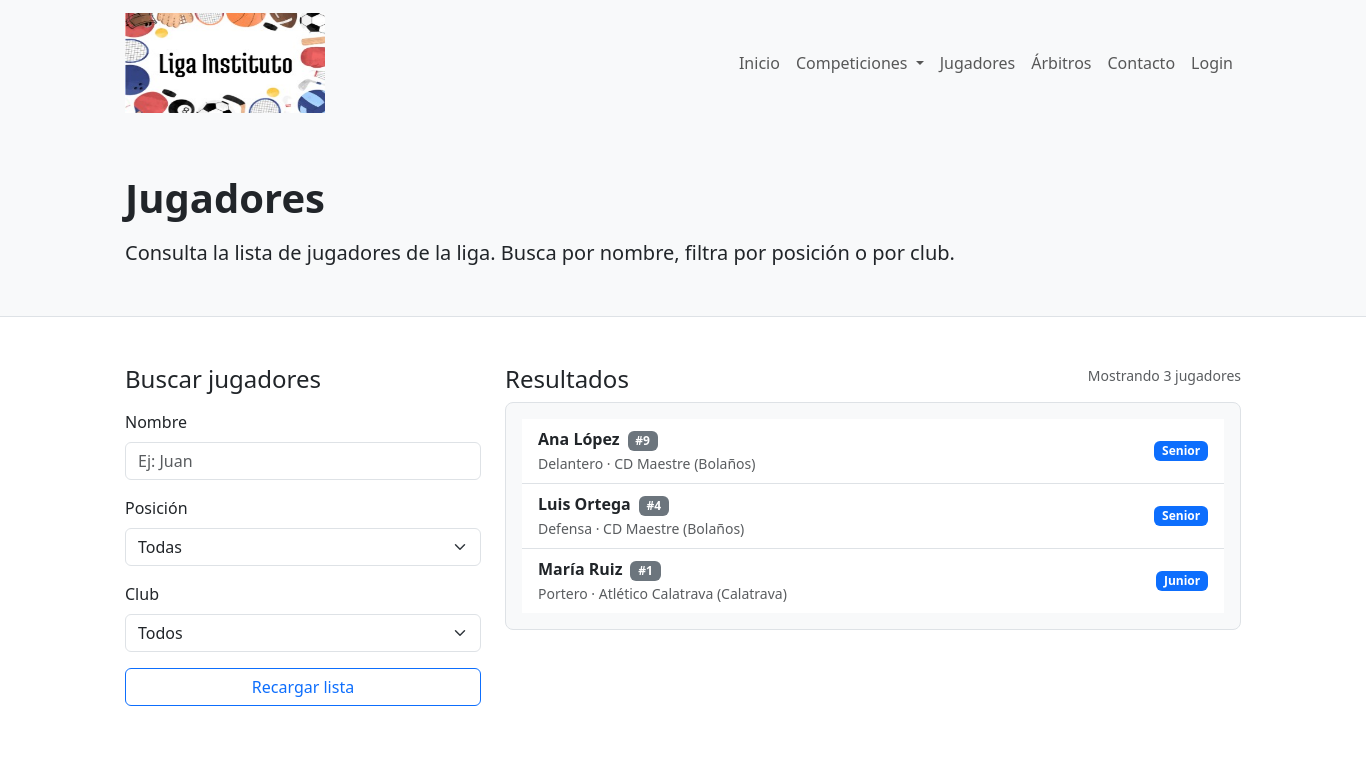
Test: Página de Jugadores › debe filtrar por posición Defensa
Select "Defensa" in the dropdown labelled "Posición" at (303, 547), box [125, 528, 481, 566]
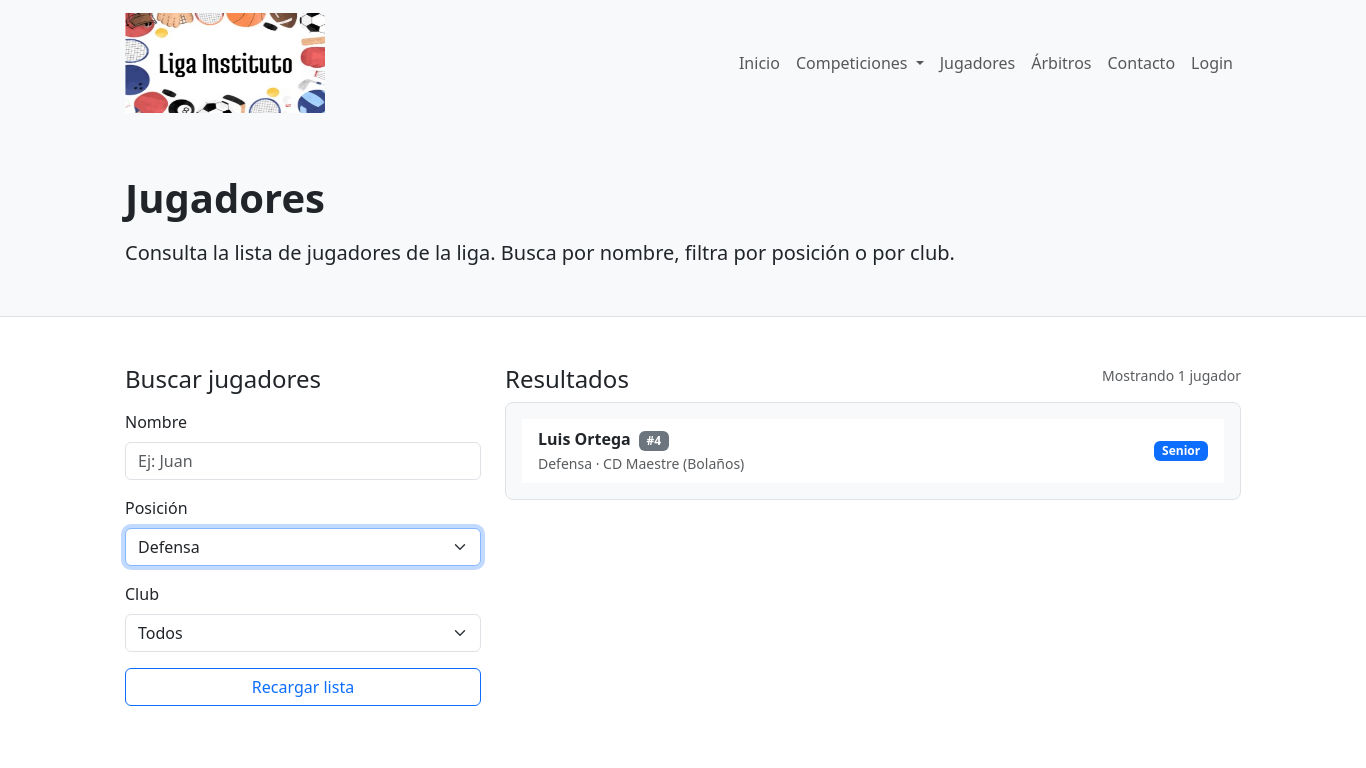
Expected: the list item "Luis Ortega" is shown, [538, 428, 631, 450]
Expected: the number of list items with class "list-group-item" is 1, [522, 419, 1224, 483]
